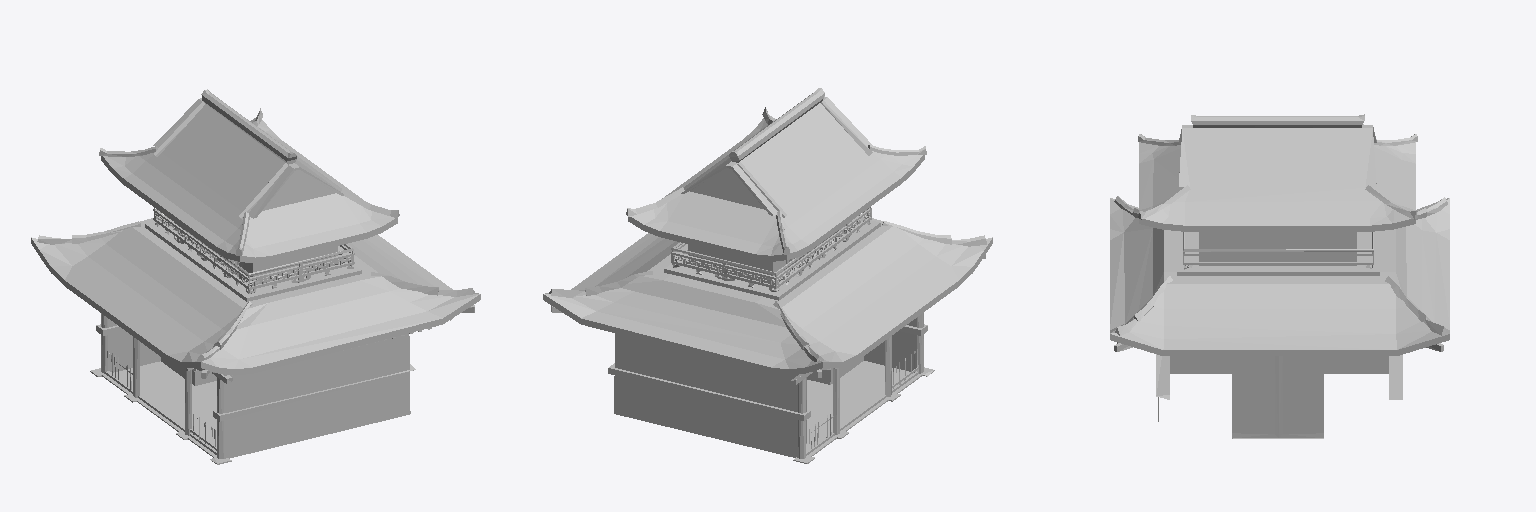
Rendered from samurai_monastry (1)_textured.obj.
3 renders of one model, left to right at view 1: azimuth 30°, elevation 25°; view 2: azimuth 150°, elevation 25°; view 3: azimuth 270°, elevation 25°, orthographic.
Bounding box in the file's own units: 15.63 × 14.63 × 16.48.